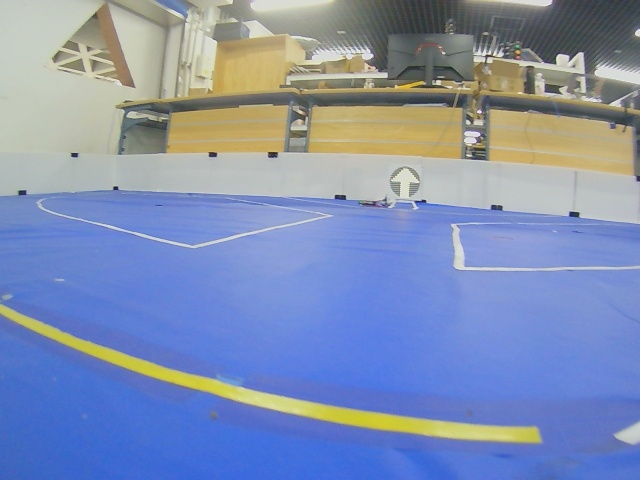straight_yellow: (390, 167, 420, 198)
